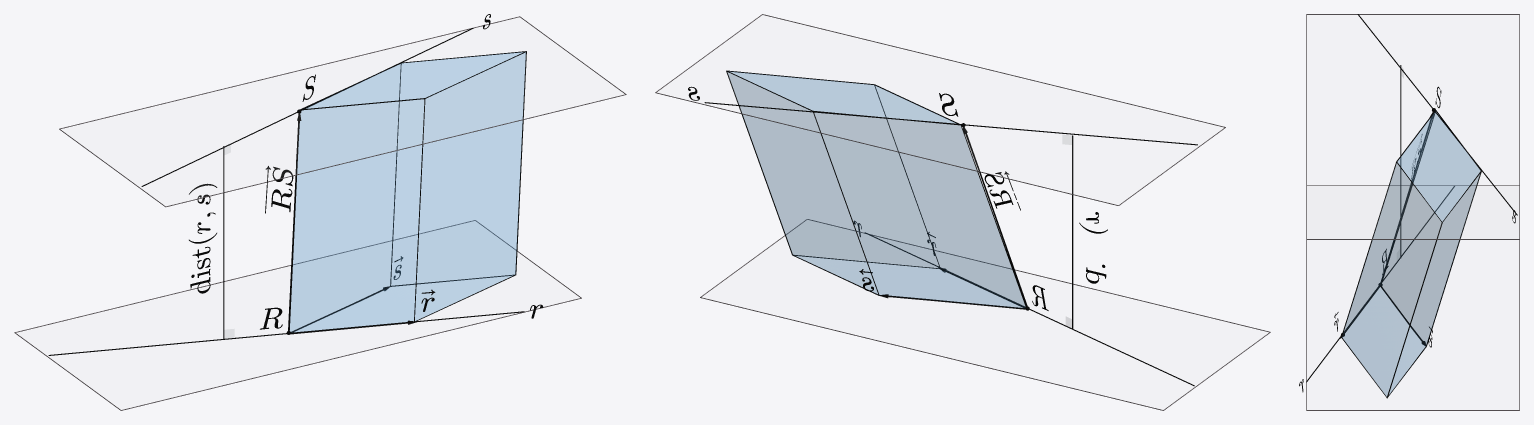
3 renders of one model, left to right at view 1: azimuth 30°, elevation 25°; view 2: azimuth 150°, elevation 25°; view 3: azimuth 270°, elevation 25°, orthographic.
Visible parts, largest first — view 1: Plane.001, Plane.004, Plano de referencia, Plano de referencia.001, segmento.001, Meshn.002, segmento; view 2: Plane.001, Plane.004, Plano de referencia, Plano de referencia.001, segmento; view 3: Plane.001, Plane.004, Plano de referencia, Plano de referencia.001, segmento, segmento.006, segmento.001, segmento.002.
Boxes of the visible parts, bbox=[...] form: Plane.001: bbox=[290, 52, 525, 332]; Plane.004: bbox=[289, 51, 526, 330]; Plano de referencia: bbox=[59, 16, 626, 207]; Plano de referencia.001: bbox=[14, 220, 581, 410]; segmento.001: bbox=[48, 311, 524, 355]; Meshn.002: bbox=[189, 183, 217, 293]; segmento: bbox=[141, 28, 473, 186]; Plane.001: bbox=[727, 71, 1025, 307]; Plane.004: bbox=[726, 70, 1026, 308]; Plano de referencia: bbox=[655, 14, 1225, 205]; Plano de referencia.001: bbox=[700, 219, 1270, 410]; segmento: bbox=[704, 102, 1197, 145]; Plane.001: bbox=[1342, 113, 1480, 396]; Plane.004: bbox=[1341, 110, 1481, 398]; Plano de referencia: bbox=[1306, 14, 1519, 239]; Plano de referencia.001: bbox=[1306, 185, 1519, 410]; segmento: bbox=[1357, 14, 1517, 215]; segmento.006: bbox=[1400, 65, 1401, 257]; segmento.001: bbox=[1306, 186, 1454, 382]; segmento.002: bbox=[1380, 144, 1422, 283].
Bounding box in the file's own units: 5.49 × 2.39 × 2.07.
